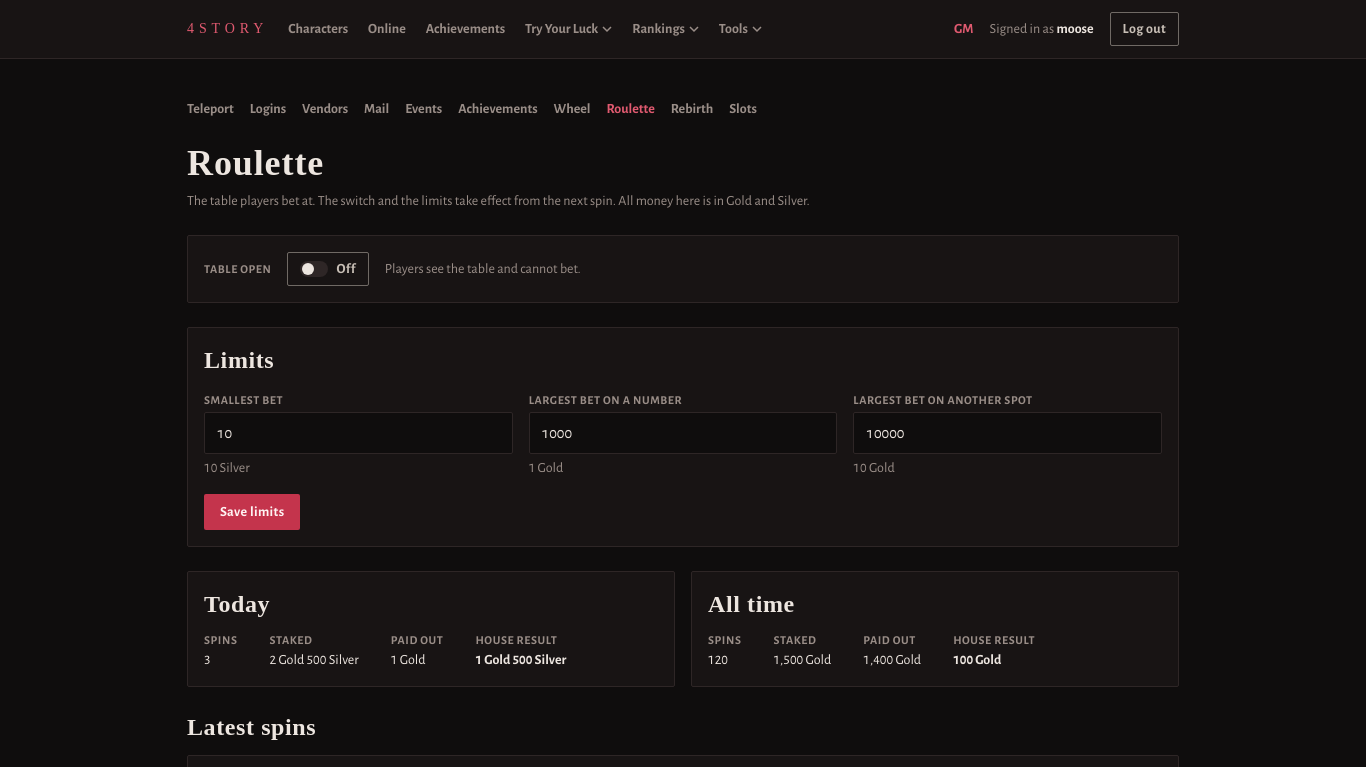
it: GM roulette page › shows why the switch could not be saved
Click the switch named "Table open".
click(328, 269)  # box top-left (287, 252), bottom-right (369, 286)
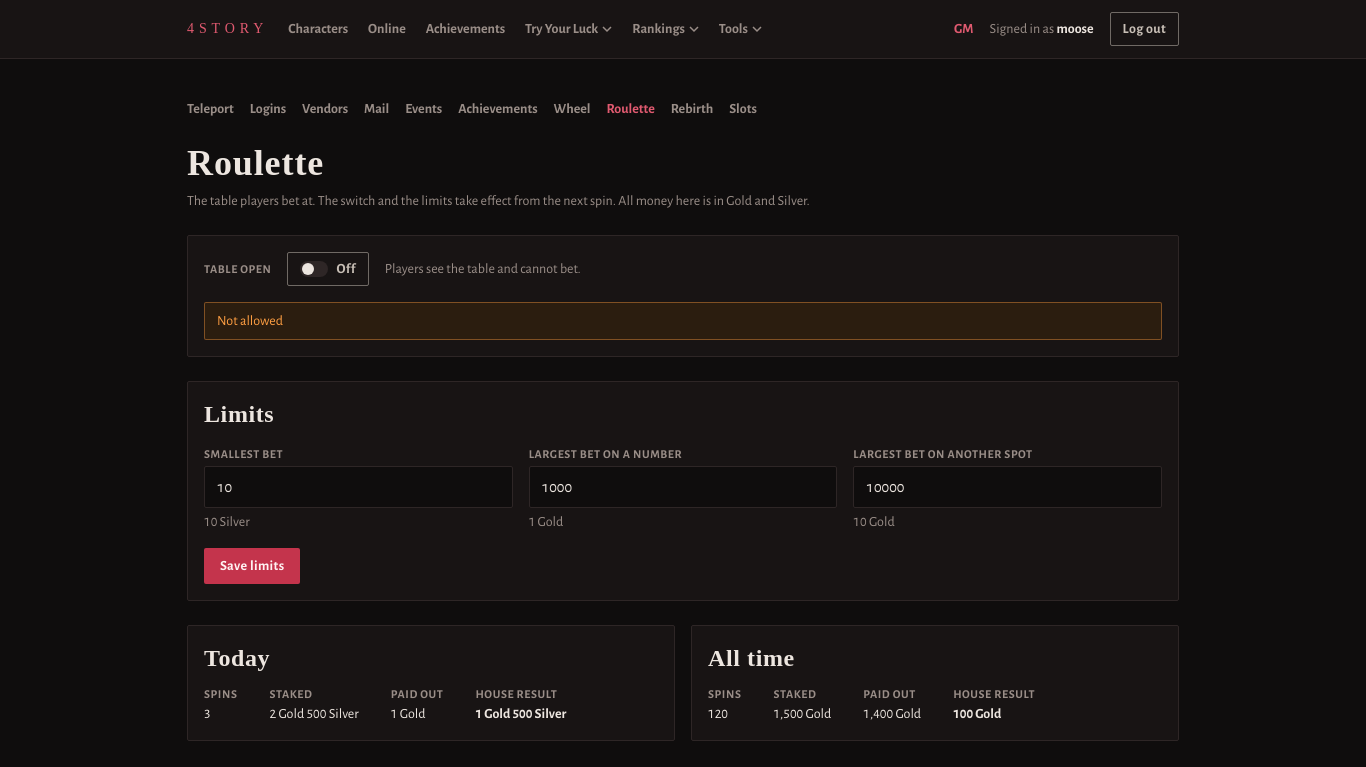
Expected: the message reads "Not allowed", top-left (217, 314), bottom-right (283, 328)
